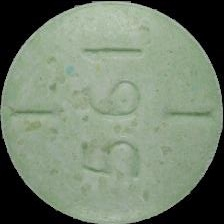58118-1344: (0, 0, 224, 224)
